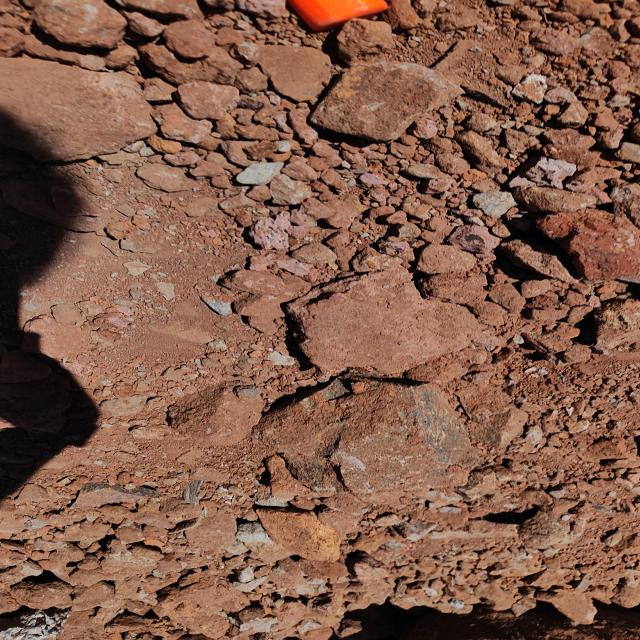Orange_hammer: (285, 0, 389, 32)
